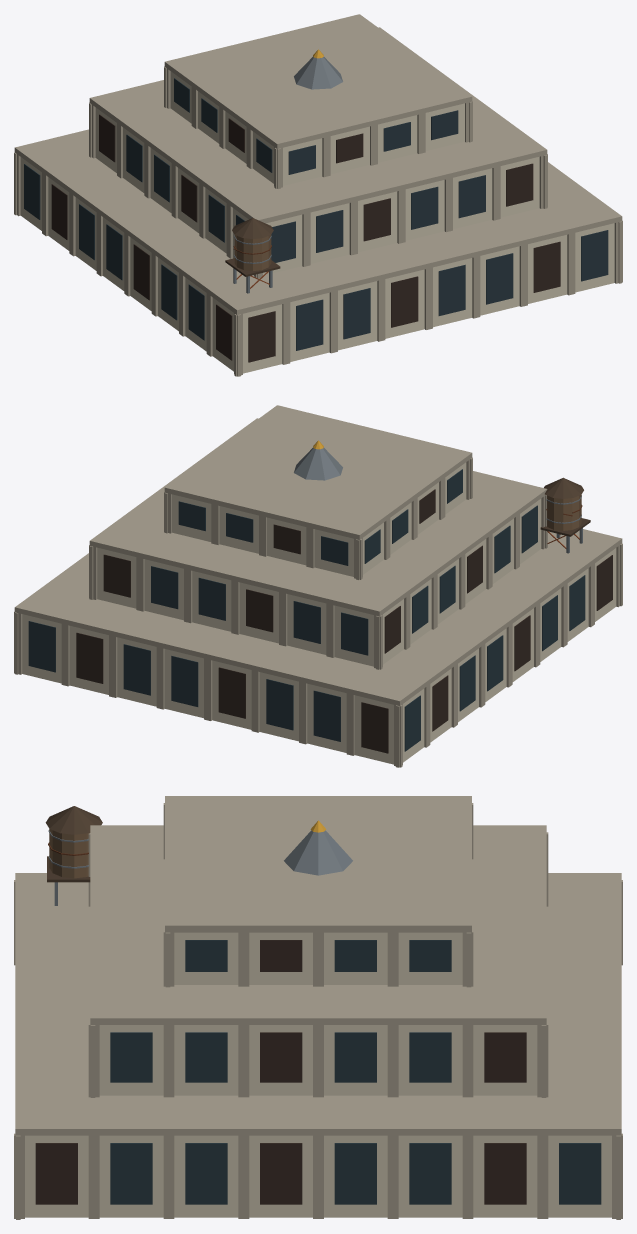
File: tw_landmark_stepped.glb
3 views of the same model, one above another, from view 1: azimuth 30°, elevation 25°; view 2: azimuth 150°, elevation 25°; view 3: azimuth 270°, elevation 25° (orthographic). The views are drawn at different scales.
Parts seen in each view (by area): view 1: tw_landmark_stepped; view 2: tw_landmark_stepped; view 3: tw_landmark_stepped.
Boxes of the visible parts, box(x1,y1,x2,y2) form: tw_landmark_stepped: box(14, 14, 622, 376); tw_landmark_stepped: box(14, 405, 622, 767); tw_landmark_stepped: box(14, 796, 622, 1219).
Size of the model in its own units: 24.44 by 12 by 24.44.
Materials: 3 (3 with a texture image).
